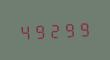four: (18, 21, 32, 41)
nine: (78, 18, 92, 38), (33, 21, 47, 40), (63, 19, 77, 38)
two: (48, 20, 62, 39)
